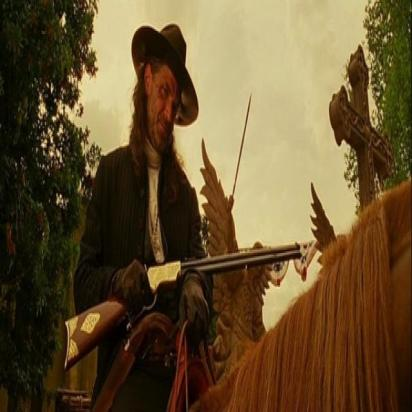Gun: (63, 234, 304, 378)
